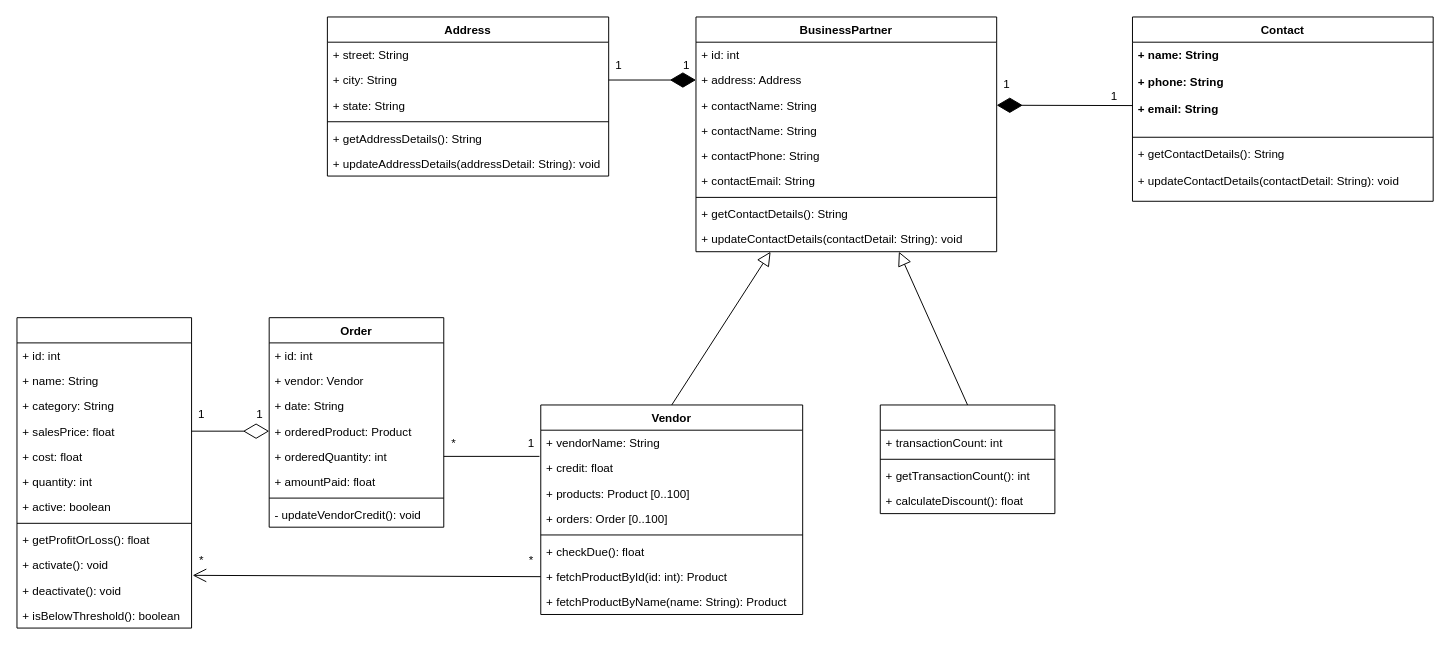
Image size: 1450x648. Some labels were removed from this diagram. The box of each missing label's shape, as (x1, y1, x2, y2) in pixels:
Customer: (879, 404, 1055, 514)
Product: (16, 317, 192, 628)
